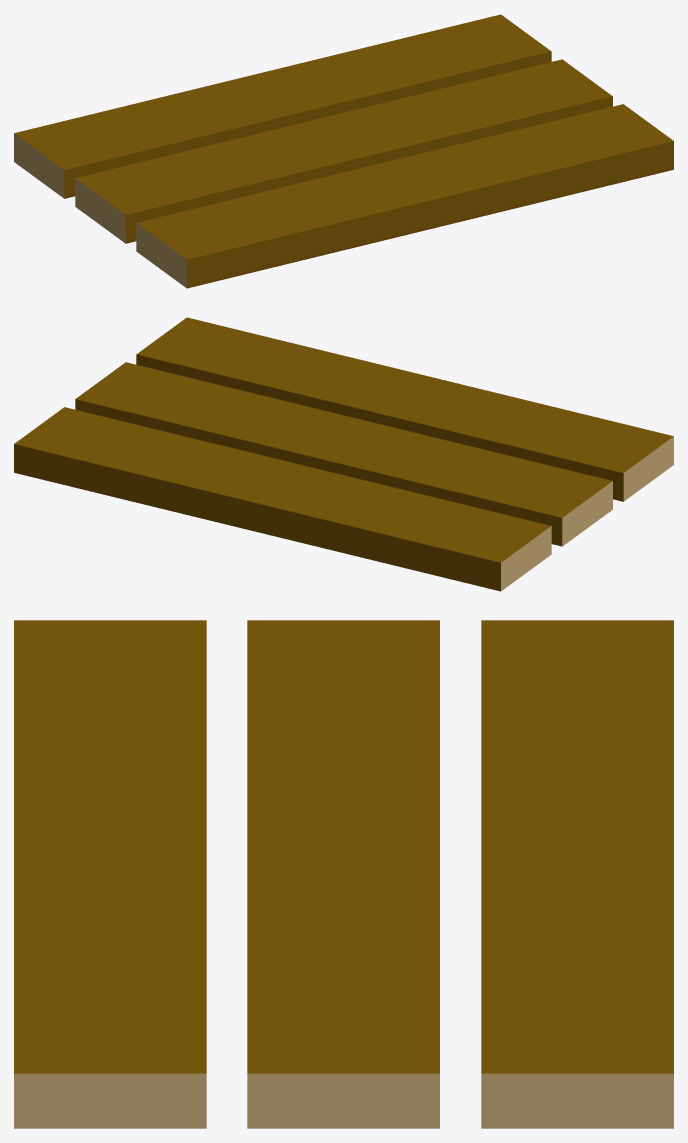
Rendered from Bridge_Planksx3.fbx.
3 views of the same model, one above another, from view 1: azimuth 30°, elevation 25°; view 2: azimuth 150°, elevation 25°; view 3: azimuth 270°, elevation 25° (orthographic). The views are drawn at different scales.
Visible parts, largest first — view 1: Bridge_Planksx3; view 2: Bridge_Planksx3; view 3: Bridge_Planksx3.
Part boxes in pixels (x1,y1,x2,y2): Bridge_Planksx3: (14, 14, 673, 288); Bridge_Planksx3: (14, 317, 673, 591); Bridge_Planksx3: (14, 620, 673, 1128).
Bounding box in the file's own units: 3 × 0.1691 × 1.85.
